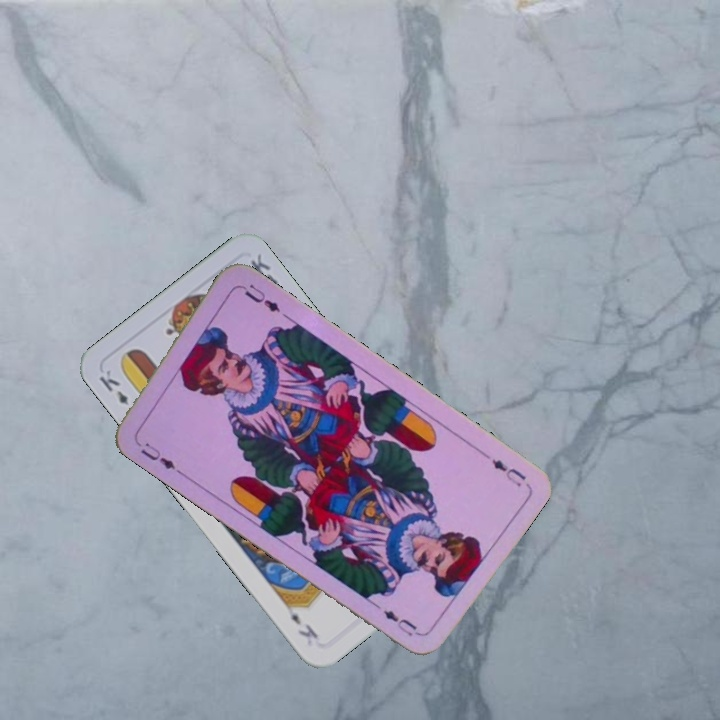EK: (95, 365, 131, 408)
EU: (487, 454, 529, 490), (136, 438, 178, 472)
